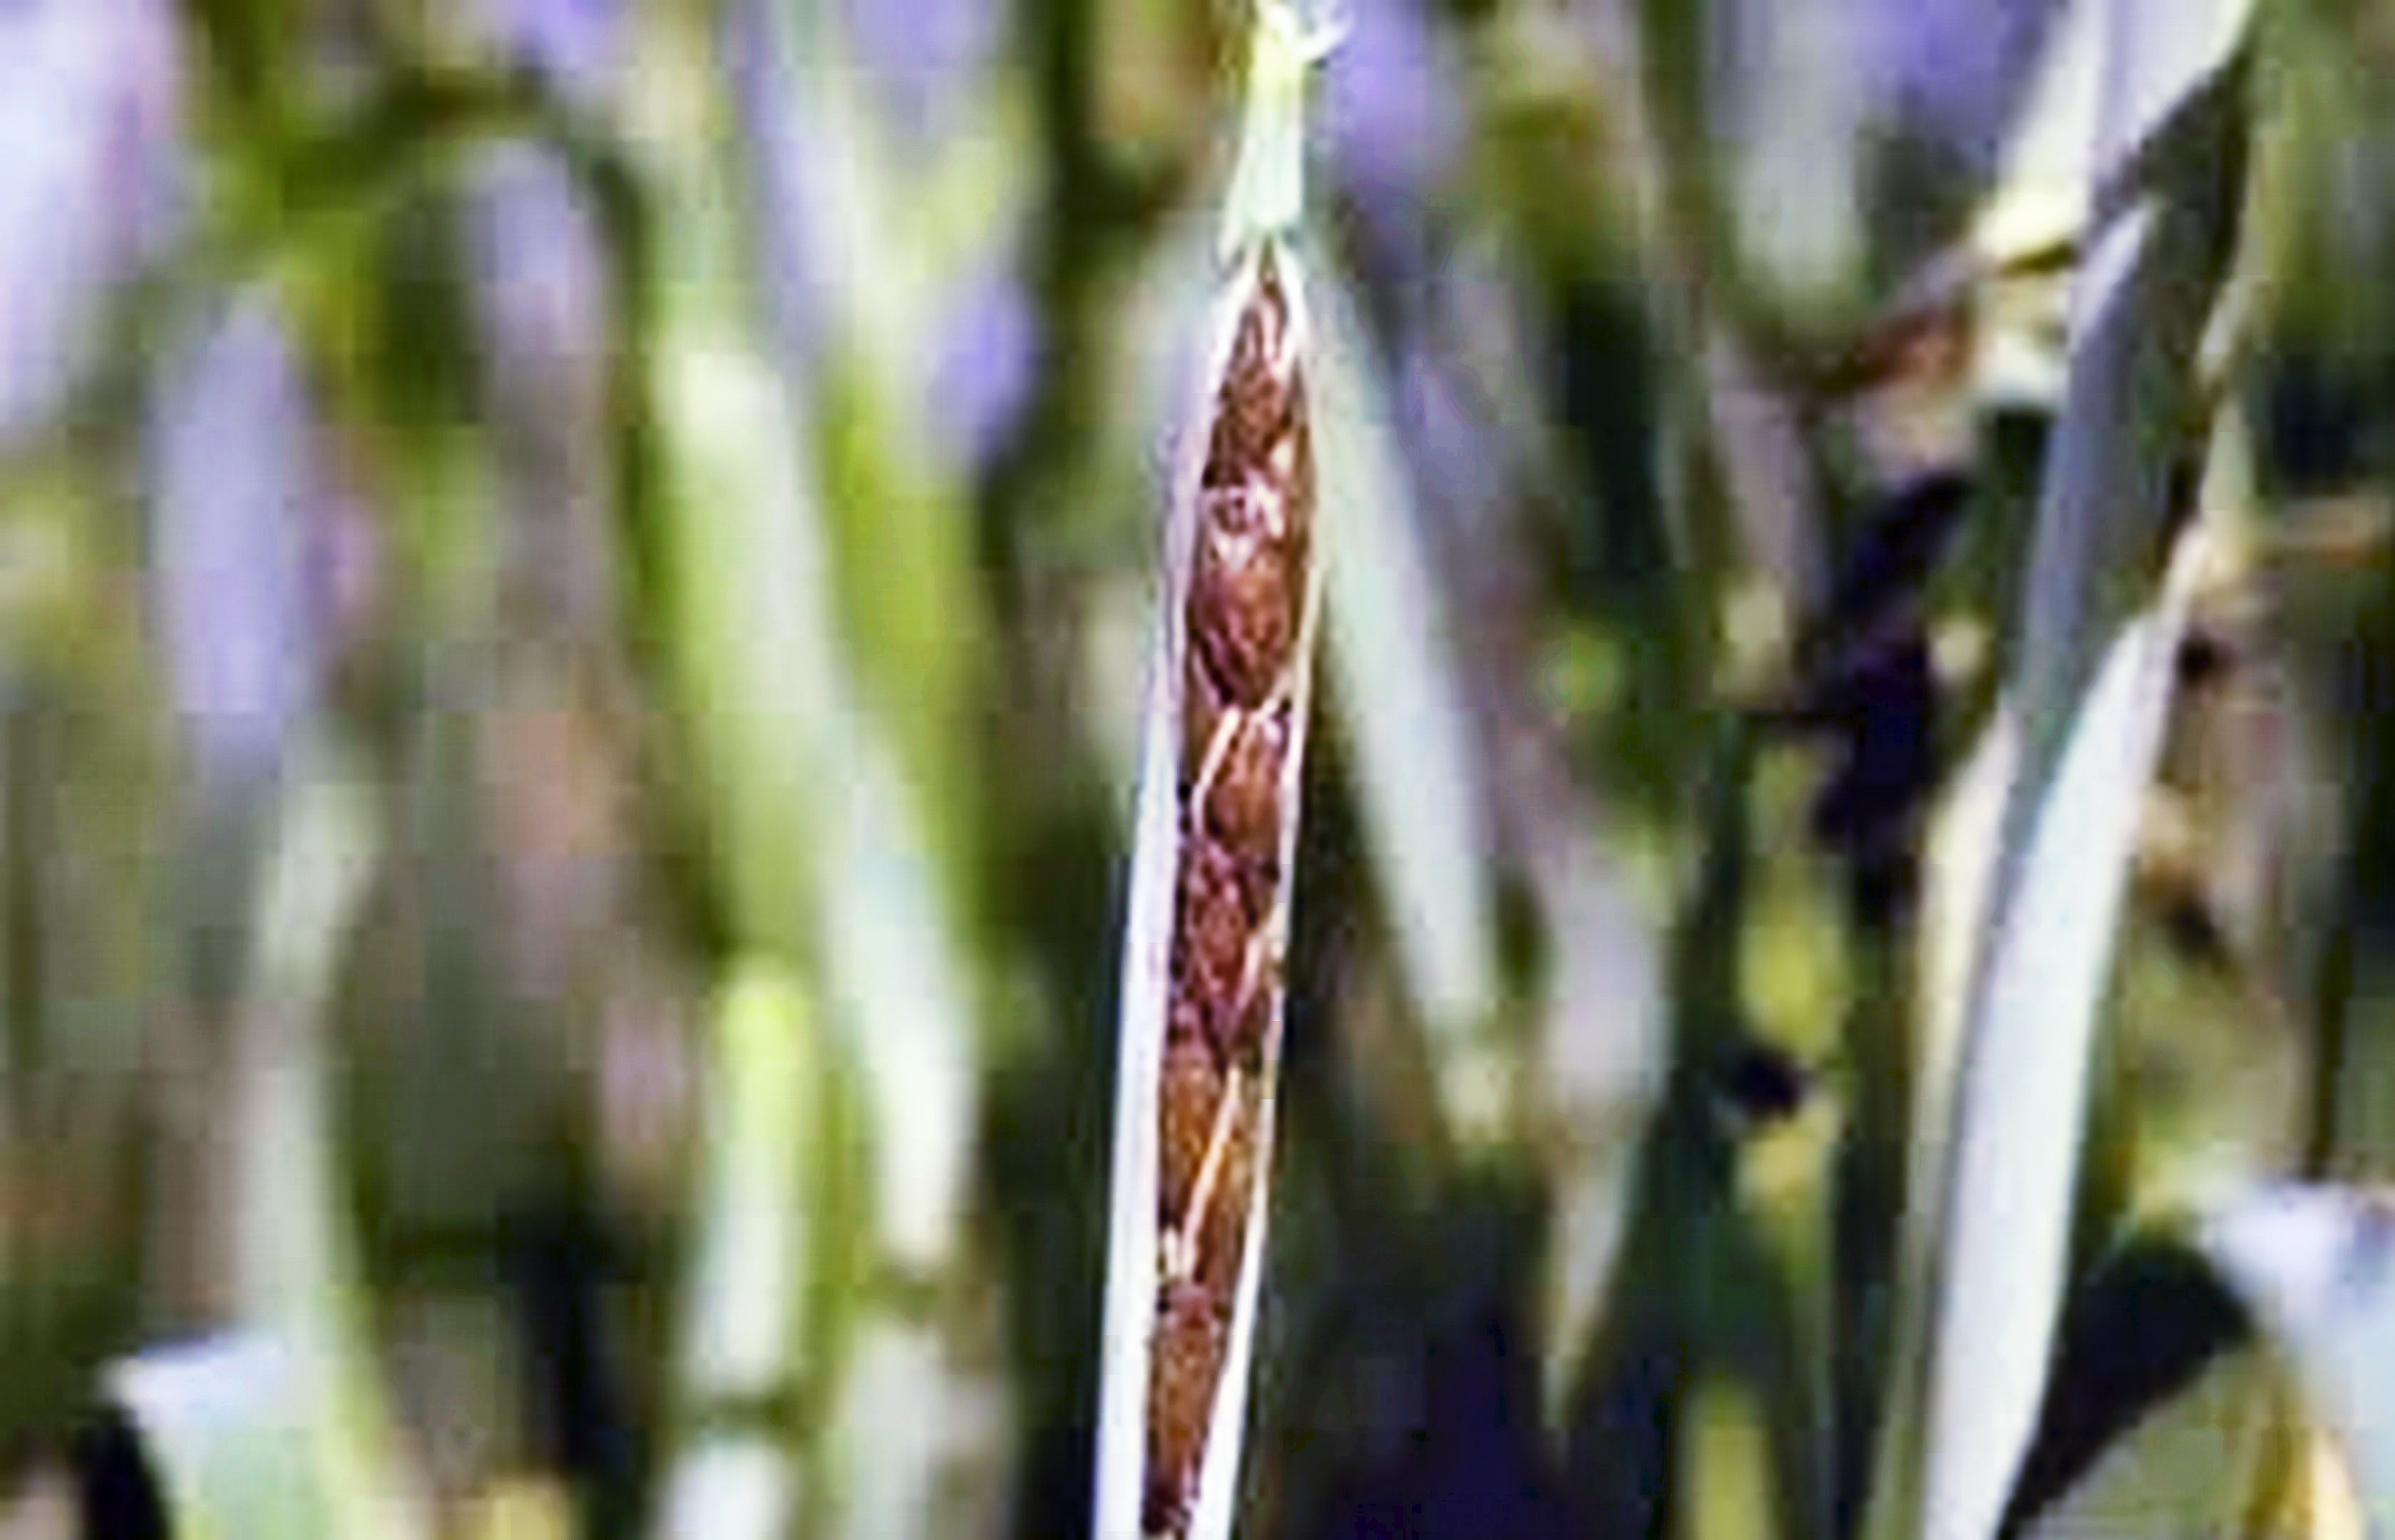Wheat Loose Smut: (1091, 307, 1348, 1411)
